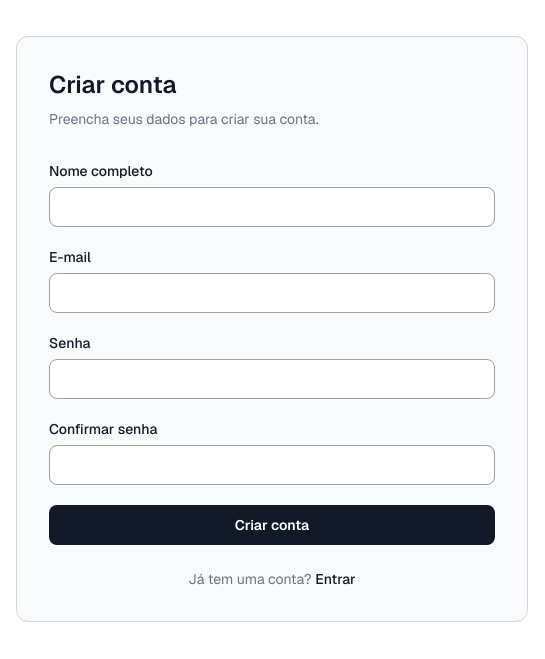
RegisterPage › deve rejeitar senha com menos de 8 caracteres
The width and height of the screenshot is (545, 659).
Type "Guilherme Nobre" into the field labelled "Nome completo". click: (272, 207)
box: [49,187,495,227]
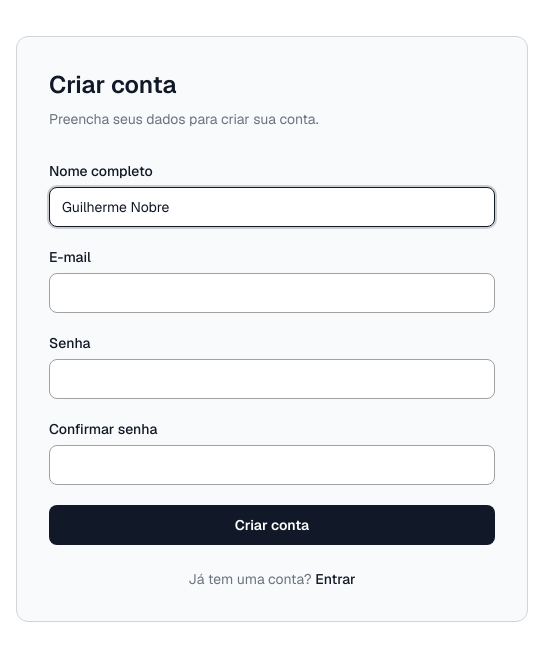
Type "guilherme@example.com" into the field labelled "E-mail". click: (272, 293)
box: [49,273,495,313]
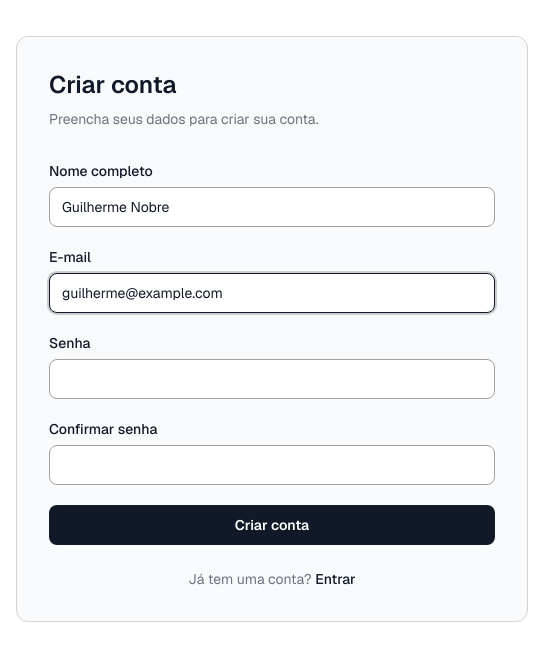
Type "1234567" into the password field labelled "Senha". click: (272, 379)
box: [49,359,495,399]
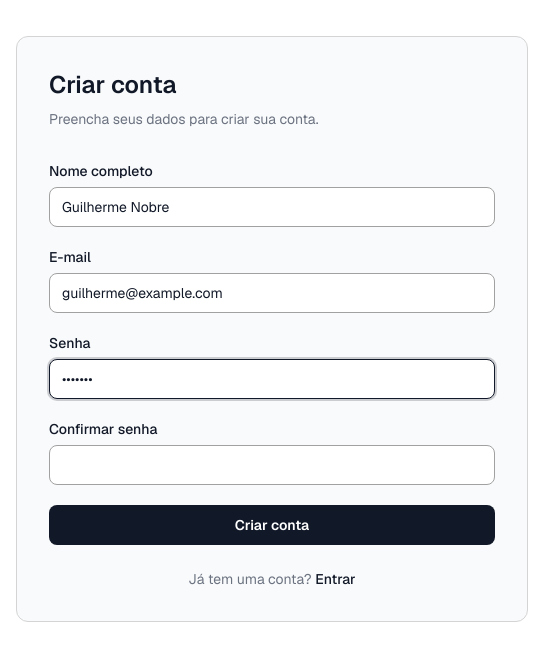
Type "1234567" into the password field labelled "Confirmar senha". click: (272, 465)
box: [49,445,495,485]
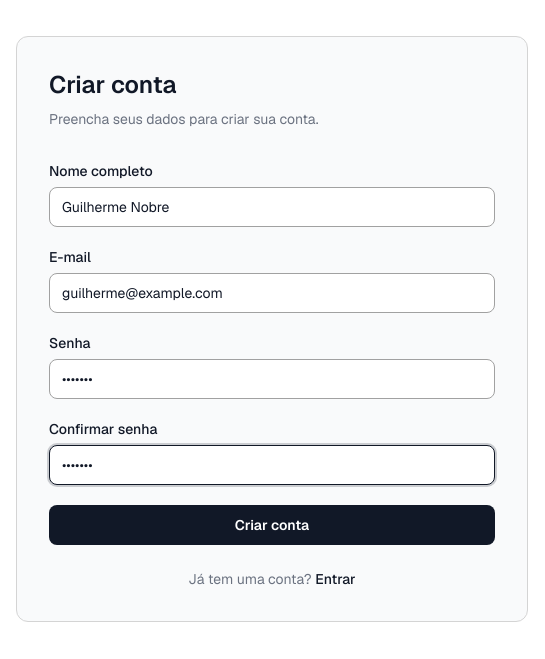
Click the button "Criar conta". click: (272, 525)
box: [49,505,495,545]
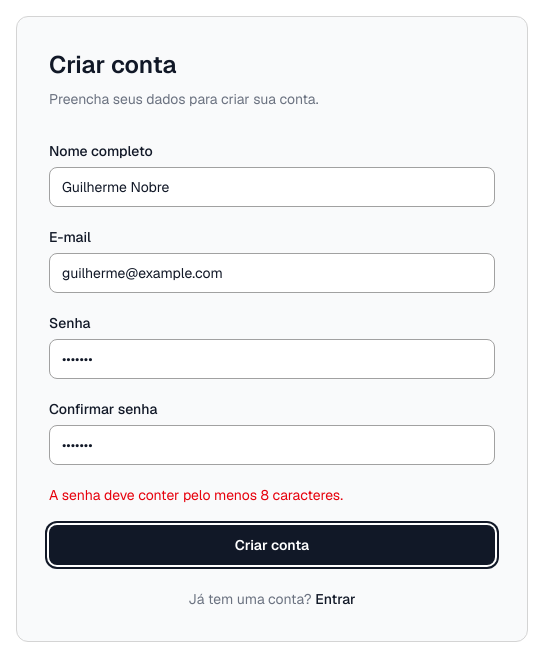
Expected: the message reads "A senha deve conter pelo menos 8 caracteres.", [49,486,343,504]
